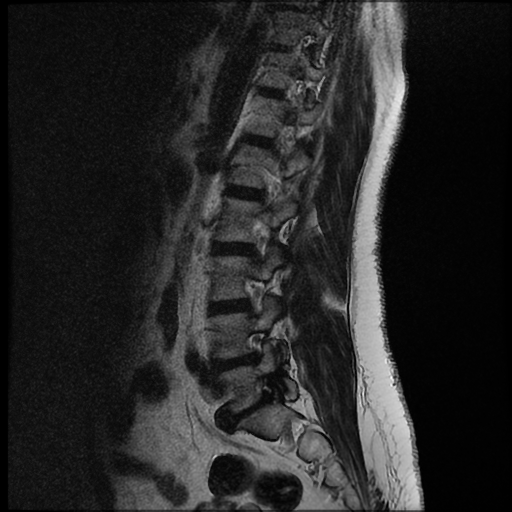LFS0: (235, 273, 271, 321)
LFS2: (238, 321, 274, 369)
LFS3: (250, 369, 286, 417)
